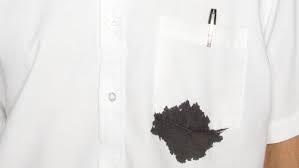ink: (154, 103, 224, 163)
